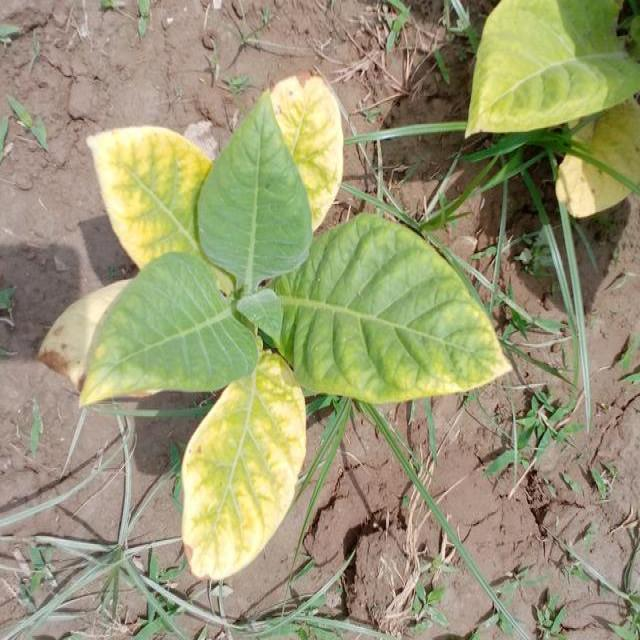crop: (48, 63, 510, 574), (471, 0, 637, 226)
